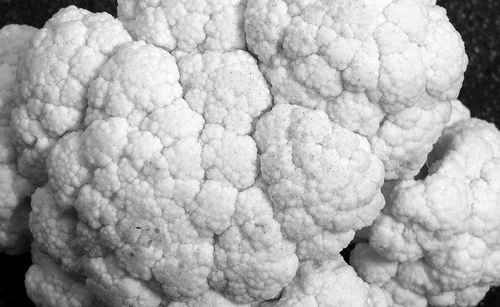cauliflower: (0, 1, 498, 305)
